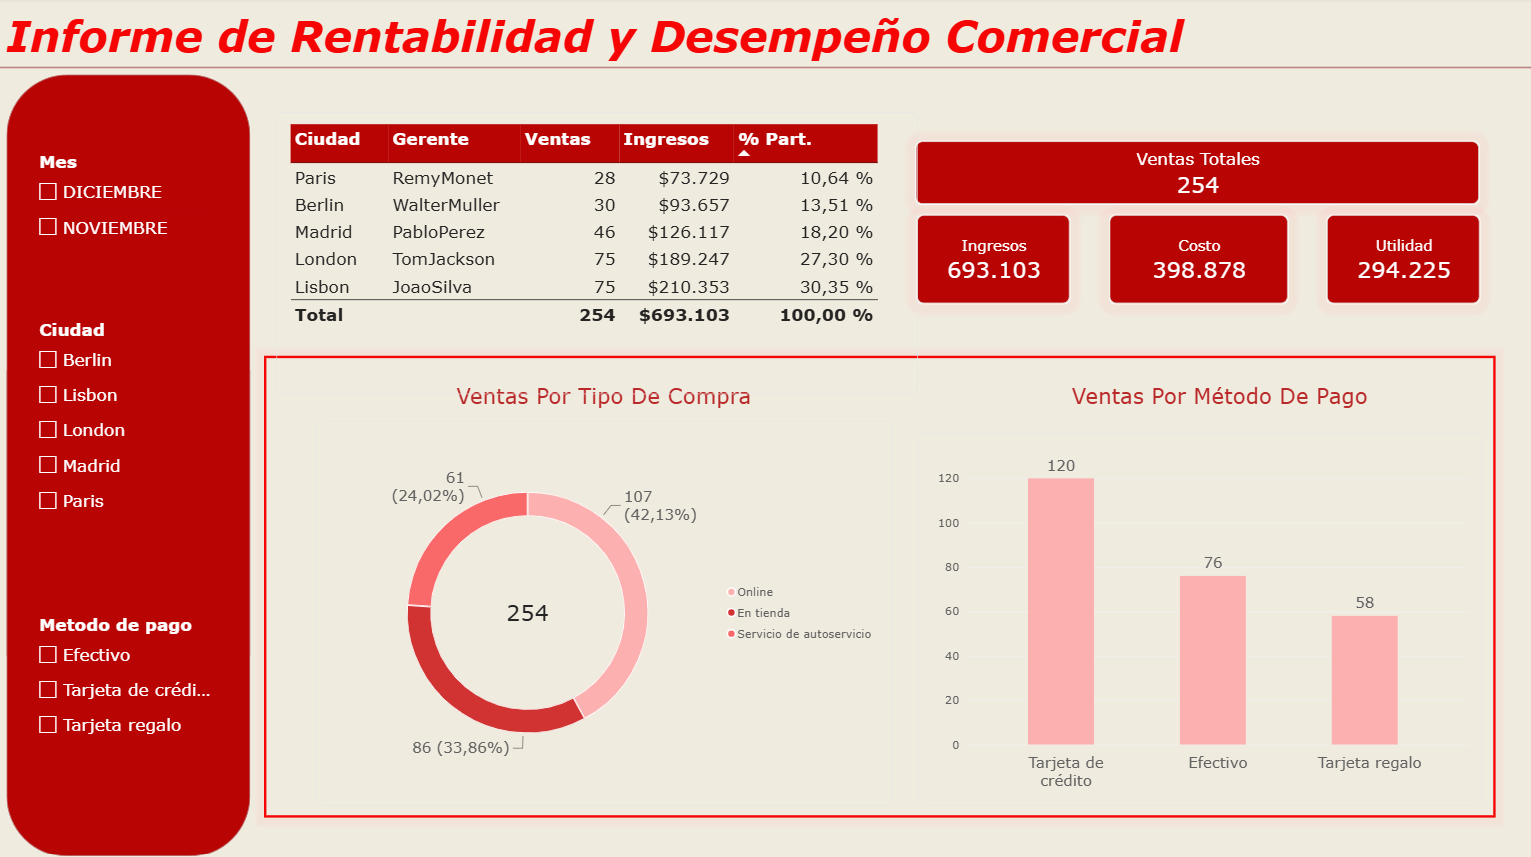

This screenshot's page, from the dashboard's own definition file:
{"tool":"powerbi","page":{"name":"Ingresos/Ventas","canvas":[1920,1080],"ordinal":0},"visuals":[{"type":"cardVisual","fields":{"Data":["Medidas.Costo Total"]},"box":[1389.8,271.7,224,112],"z":0},{"type":"cardVisual","fields":{"Data":["Medidas.Utilidad"]},"box":[1661.8,271.7,192,112],"z":1000},{"type":"cardVisual","fields":{"Data":["Medidas.Ingresos Totales"]},"box":[1149.8,271.7,192,112],"z":2000},{"type":"cardVisual","fields":{"Data":["Medidas.Ventas Totales"]},"box":[1149.6,179.3,704,80],"z":3000},{"type":"textbox","box":[16,16,1872,80],"z":4000},{"type":"shape","box":[0,64,1920,48],"z":5000},{"type":"shape","box":[16,96,304,976],"z":6000},{"type":"slicer","fields":{"Values":["Calendario.Mes Nombre"]},"box":[48,192,224,144],"z":7000},{"type":"slicer","fields":{"Values":["_9__Sales_Data_Analysis.Metodo de pago"]},"box":[48,768,224,192],"z":8000},{"type":"shape","box":[336,448,1536,576],"z":9000},{"type":"donutChart","title":"Ingresos Por Ciudad","fields":{"Category":["_9__Sales_Data_Analysis.Tipo compra"],"Y":["Medidas.Ventas Totales"]},"box":[400,528,720,496],"z":10000},{"type":"slicer","fields":{"Values":["_9__Sales_Data_Analysis.Ciudad"]},"box":[48,400,224,272],"z":11000},{"type":"columnChart","fields":{"Y":["Medidas.Ventas Totales"],"Category":["_9__Sales_Data_Analysis.Metodo de pago"]},"box":[1152,544,720,480],"z":12000},{"type":"textbox","box":[400,480,720,48],"z":13000},{"type":"textbox","box":[1184,480,688,48],"z":14000},{"type":"tableEx","fields":{"Values":["_9__Sales_Data_Analysis.Ciudad","_9__Sales_Data_Analysis.Gerente","Medidas.Ventas Totales","Medidas.Ingresos Totales","Sum(_9__Sales_Data_Analysis.% participación)"]},"box":[352,144,800,352],"z":15000}]}

Visuals, with their boxes in screenshot pixels (x1, y1, x2, y2), scaled from the page's 1920x1080 canvas onto the 1531x857 screenshot:
cardVisual - Medidas.Costo Total: {"left": 1108, "top": 216, "right": 1287, "bottom": 304}
cardVisual - Medidas.Utilidad: {"left": 1325, "top": 216, "right": 1478, "bottom": 304}
cardVisual - Medidas.Ingresos Totales: {"left": 917, "top": 216, "right": 1070, "bottom": 304}
cardVisual - Medidas.Ventas Totales: {"left": 917, "top": 142, "right": 1478, "bottom": 206}
textbox: {"left": 13, "top": 13, "right": 1505, "bottom": 76}
shape: {"left": 0, "top": 51, "right": 1530, "bottom": 89}
shape: {"left": 13, "top": 76, "right": 255, "bottom": 851}
slicer - Calendario.Mes Nombre: {"left": 38, "top": 152, "right": 217, "bottom": 267}
slicer - _9__Sales_Data_Analysis.Metodo de pago: {"left": 38, "top": 609, "right": 217, "bottom": 762}
shape: {"left": 268, "top": 355, "right": 1493, "bottom": 813}
"Ingresos Por Ciudad" donutChart: {"left": 319, "top": 419, "right": 893, "bottom": 813}
slicer - _9__Sales_Data_Analysis.Ciudad: {"left": 38, "top": 317, "right": 217, "bottom": 533}
columnChart - Medidas.Ventas Totales x _9__Sales_Data_Analysis.Metodo de pago: {"left": 919, "top": 432, "right": 1493, "bottom": 813}
textbox: {"left": 319, "top": 381, "right": 893, "bottom": 419}
textbox: {"left": 944, "top": 381, "right": 1493, "bottom": 419}
tableEx - _9__Sales_Data_Analysis.Ciudad x _9__Sales_Data_Analysis.Gerente: {"left": 281, "top": 114, "right": 919, "bottom": 394}
